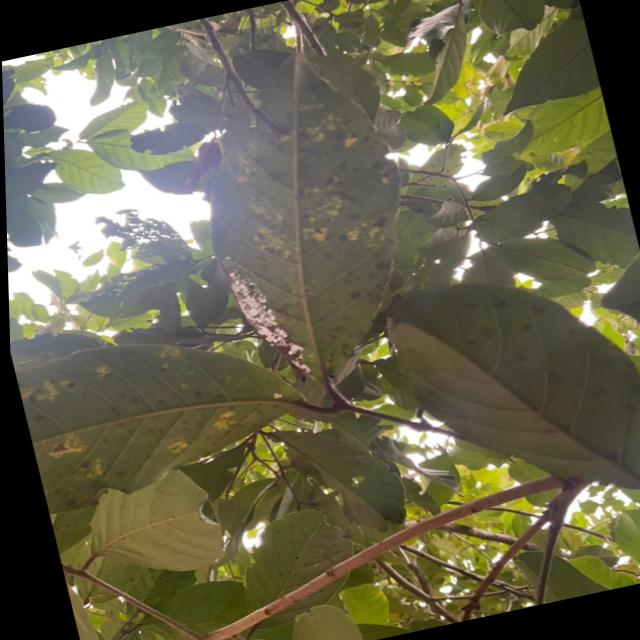Algal Leaf Spot: (215, 117, 430, 326), (11, 321, 272, 491)
